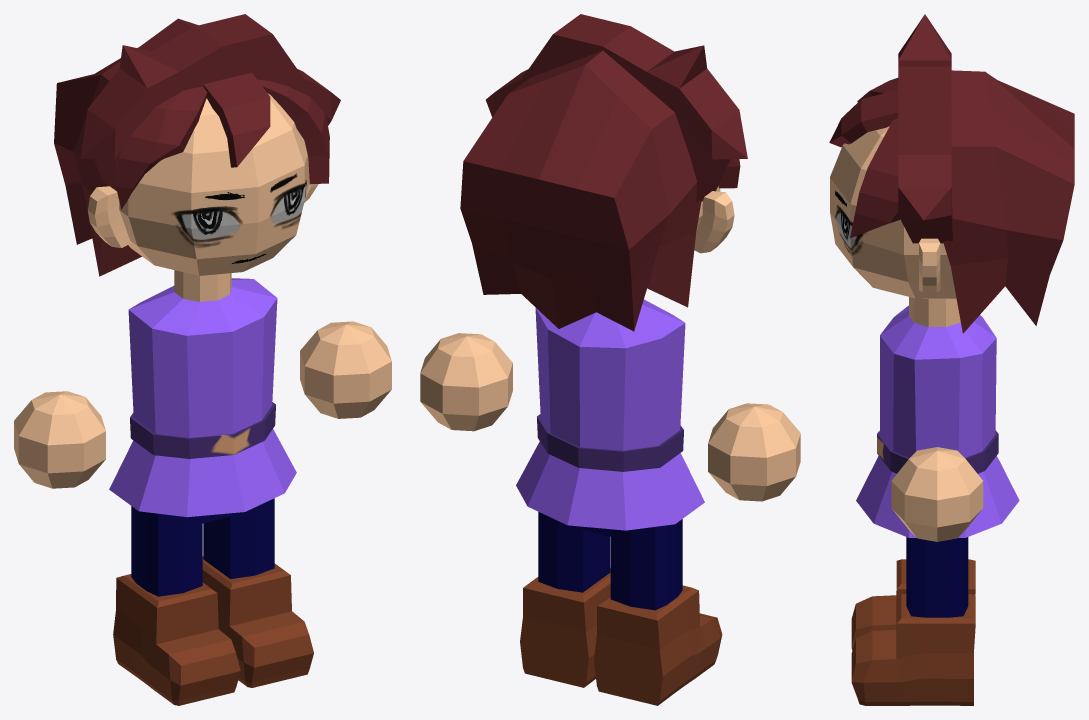
Rendered from npcsbasemodeltex.fbx.
3 renders of one model, left to right at view 1: azimuth 30°, elevation 25°; view 2: azimuth 150°, elevation 25°; view 3: azimuth 270°, elevation 25°, orthographic. The views are drawn at different scales.
Visible parts, largest first — view 1: Body, Shoes, Hands, Hair, Pants, Hair2, HairStrand2, HairStrand1, HairStrand3, Ears; view 2: Hair2, Body, Shoes, Hands, Hair, Pants, Ears; view 3: Body, Hair2, Shoes, Hair, Hands, Pants, HairStrand3, HairStrand1, Ears.
Part boxes in pixels (left/top/right/bottom): Body: left=109, top=93, right=309, bottom=517; Shoes: left=113, top=556, right=313, bottom=705; Hands: left=14, top=321, right=391, bottom=488; Hair: left=80, top=14, right=340, bottom=191; Pants: left=131, top=498, right=274, bottom=596; Hair2: left=54, top=18, right=198, bottom=276; HairStrand2: left=116, top=86, right=207, bottom=209; HairStrand1: left=203, top=72, right=270, bottom=167; HairStrand3: left=257, top=79, right=329, bottom=184; Ears: left=87, top=182, right=318, bottom=247; Hair2: left=460, top=50, right=701, bottom=331; Body: left=516, top=186, right=720, bottom=530; Shoes: left=520, top=568, right=722, bottom=705; Hands: left=420, top=333, right=800, bottom=501; Hair: left=486, top=14, right=747, bottom=202; Pants: left=538, top=512, right=682, bottom=610; Ears: left=694, top=191, right=734, bottom=253; Body: left=830, top=126, right=1019, bottom=537; Hair2: left=943, top=70, right=1074, bottom=333; Shoes: left=851, top=559, right=975, bottom=705; Hair: left=898, top=14, right=952, bottom=243; Hands: left=891, top=447, right=983, bottom=541; Pants: left=906, top=537, right=968, bottom=617; HairStrand3: left=850, top=118, right=899, bottom=238; HairStrand1: left=829, top=89, right=898, bottom=147; Ears: left=919, top=238, right=940, bottom=292.
Size of the model in its own units: 246 by 410 by 147.
